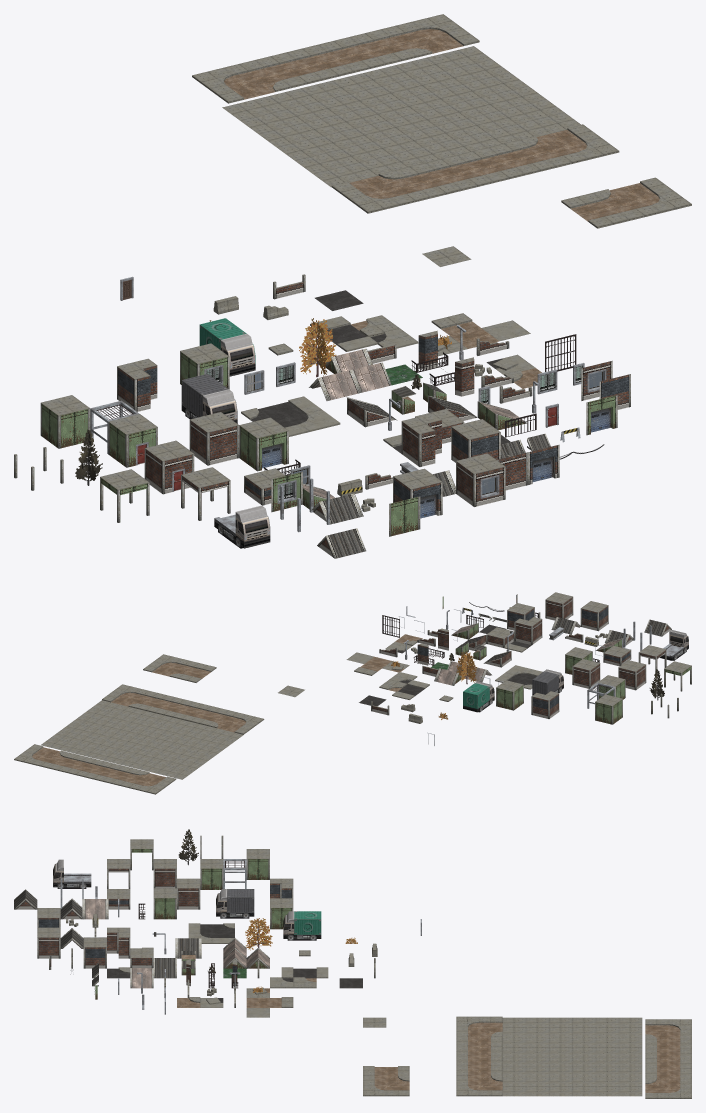
The model's file is bones-broken.glb.
The picture shows the model from 3 angles, top to bottom: view 1: azimuth 30°, elevation 25°; view 2: azimuth 150°, elevation 25°; view 3: azimuth 270°, elevation 25°; orthographic projection. The views are drawn at different scales.
Parts seen in each view (by area): view 1: roadDirt_straight.001, roadDirt_straight.002, roadDirt_pavement.513, roadDirt_pavement.512, roadDirt_pavement.128, roadDirt_corner, wallA, wallA_window, wallB, wallB_garage, wallA_door, wallB_door (+27 smaller); view 2: roadDirt_straight.002, roadDirt_straight.001, roadDirt_pavement.513, roadDirt_pavement.128, roadDirt_pavement.512, roadDirt_corner, truck_green, wallA_garage, wallA, wallB_window, wallB, wallA_window (+18 smaller); view 3: roadDirt_pavement.128, roadDirt_straight.002, roadDirt_pavement.512, roadDirt_straight.001, roadDirt_pavement.513, truck_grey, truck_green, roadDirt_corner, roadAsphalt_corner, wallA, wallB_garage, wallA_window (+18 smaller).
Part boxes in pixels (left/top/right/bottom): roadDirt_straight.001: left=192, top=14, right=479, bottom=103; roadDirt_straight.002: left=331, top=124, right=619, bottom=213; roadDirt_pavement.513: left=222, top=46, right=509, bottom=133; roadDirt_pavement.512: left=258, top=73, right=545, bottom=160; roadDirt_pavement.128: left=295, top=99, right=580, bottom=187; roadDirt_corner: left=593, top=177, right=691, bottom=220; wallA: left=189, top=412, right=239, bottom=465; wallA_window: left=456, top=453, right=505, bottom=506; wallB: left=40, top=395, right=90, bottom=448; wallB_garage: left=239, top=417, right=288, bottom=471; wallA_door: left=144, top=440, right=194, bottom=494; wallB_door: left=108, top=414, right=157, bottom=467; roadDirt_straight.002: left=102, top=684, right=264, bottom=734; roadDirt_straight.001: left=14, top=744, right=176, bottom=794; roadDirt_pavement.513: left=41, top=730, right=202, bottom=779; roadDirt_pavement.128: left=82, top=700, right=243, bottom=749; roadDirt_pavement.512: left=61, top=715, right=222, bottom=764; roadDirt_corner: left=143, top=654, right=198, bottom=678; truck_green: left=463, top=681, right=494, bottom=712; wallA_garage: left=580, top=601, right=608, bottom=631; wallA: left=572, top=659, right=600, bottom=688; wallB_window: left=496, top=680, right=523, bottom=710; wallB: left=595, top=694, right=622, bottom=724; wallA_window: left=545, top=592, right=573, bottom=620; roadDirt_pavement.128: left=502, top=1017, right=549, bottom=1096; roadDirt_straight.002: left=456, top=1016, right=502, bottom=1096; roadDirt_pavement.512: left=549, top=1017, right=595, bottom=1096; roadDirt_straight.001: left=645, top=1019, right=691, bottom=1098; roadDirt_pavement.513: left=596, top=1017, right=642, bottom=1096; truck_grey: left=216, top=889, right=254, bottom=918; truck_green: left=283, top=911, right=321, bottom=940; roadDirt_corner: left=363, top=1075, right=409, bottom=1096; roadAsphalt_corner: left=188, top=923, right=234, bottom=943; wallA: left=177, top=878, right=200, bottom=909; wallB_garage: left=153, top=888, right=176, bottom=919; wallA_window: left=37, top=927, right=60, bottom=958.
Size of the model in its own units: 25.26 by 1.7 by 29.13.
Materials: 1765 (1763 with a texture image).
